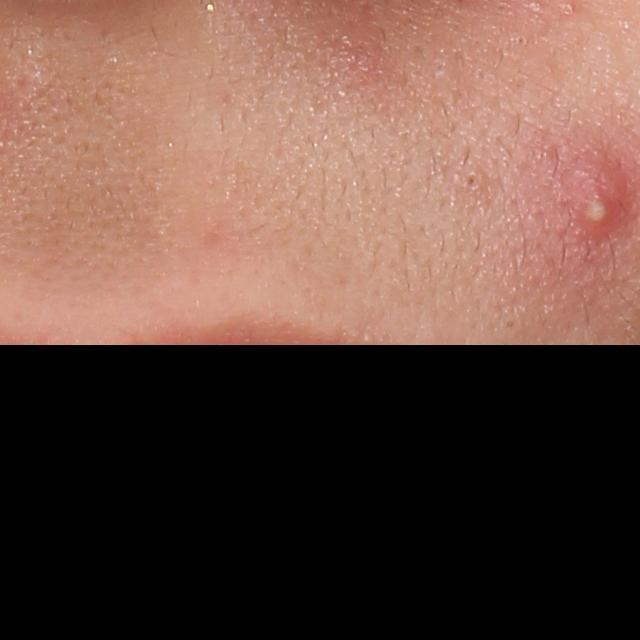comedo: (461, 171, 483, 190), (515, 33, 529, 47)
pustule: (563, 156, 636, 242)
